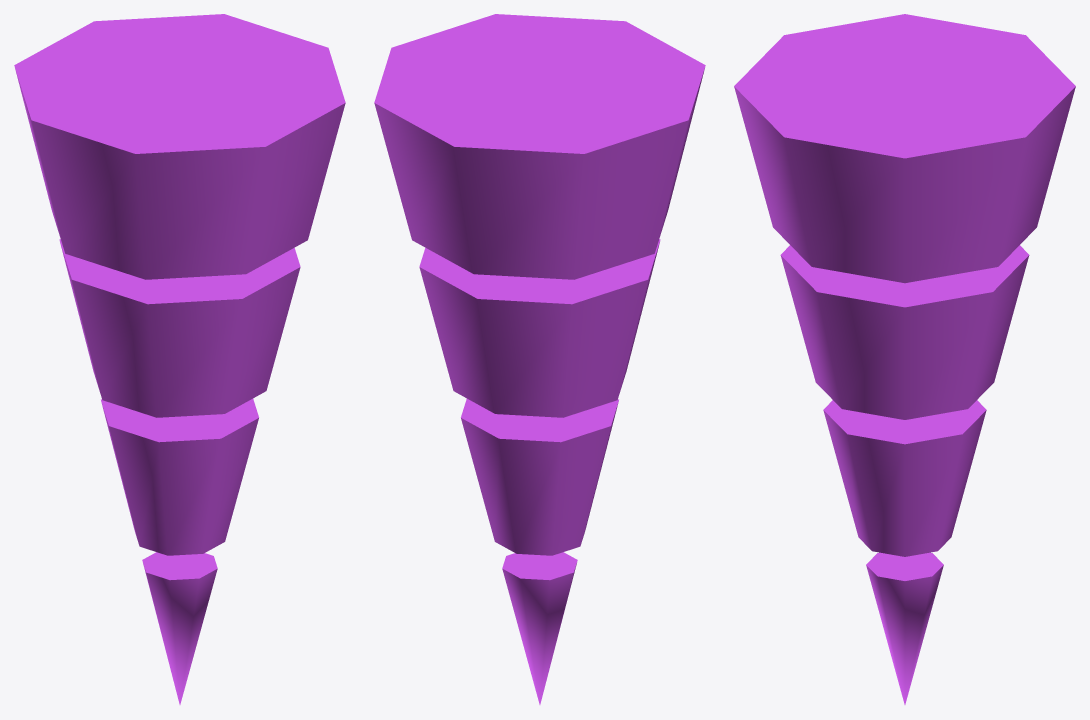
The model's file is LevelUp LP2.fbx.
3 renders of one model, left to right at view 1: azimuth 30°, elevation 25°; view 2: azimuth 150°, elevation 25°; view 3: azimuth 270°, elevation 25°, orthographic.
Parts seen in each view (by area): view 1: Pilar A LP2, Pilar C LP2, Pilar B LP2; view 2: Pilar A LP2, Pilar C LP2, Pilar B LP2; view 3: Pilar A LP2, Pilar C LP2, Pilar B LP2.
Part boxes in pixels (x1,y1,x2,y2): Pilar A LP2: [14, 14, 345, 704]; Pilar C LP2: [59, 239, 300, 417]; Pilar B LP2: [101, 398, 258, 555]; Pilar A LP2: [374, 14, 705, 704]; Pilar C LP2: [419, 239, 660, 417]; Pilar B LP2: [461, 398, 618, 555]; Pilar A LP2: [734, 14, 1075, 704]; Pilar C LP2: [780, 245, 1029, 419]; Pilar B LP2: [823, 400, 986, 556].
Size of the model in its own units: 60 by 120 by 60.
